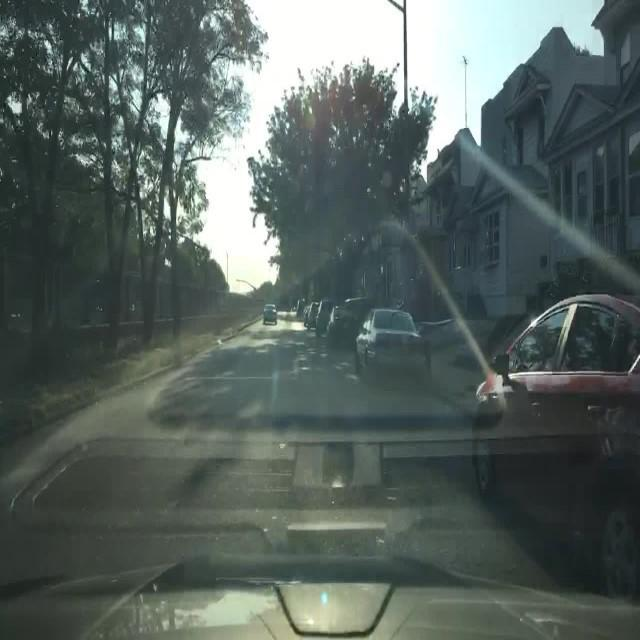normal: (450, 275, 640, 600), (353, 308, 428, 382), (264, 304, 279, 325)
